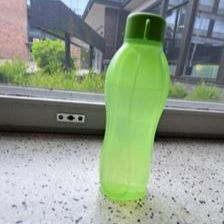bottle: (96, 11, 179, 201)
